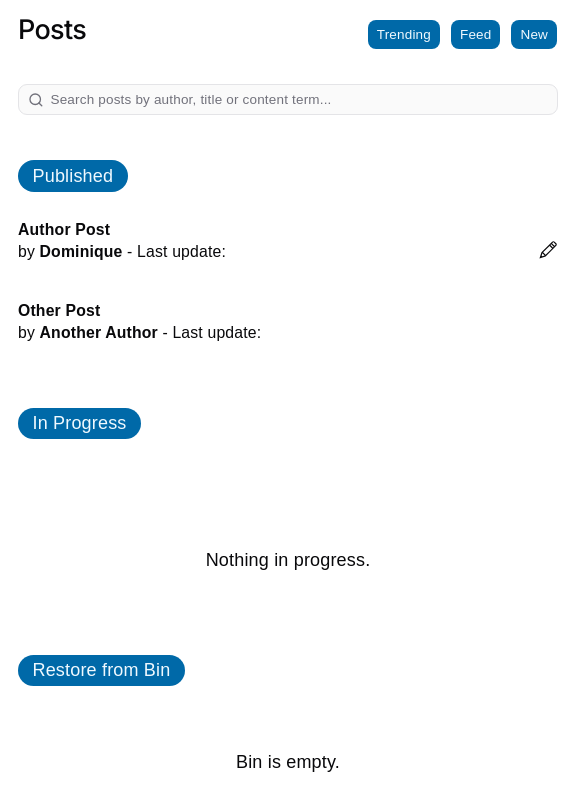
Scenario: PostList › filters published posts by author name
The width and height of the screenshot is (577, 789).
Type "Dominique" into the search field with placeholder "Search posts by author, title or content term...".
click(300, 100); type("Dominique")  # box 44,84 -> 557,116
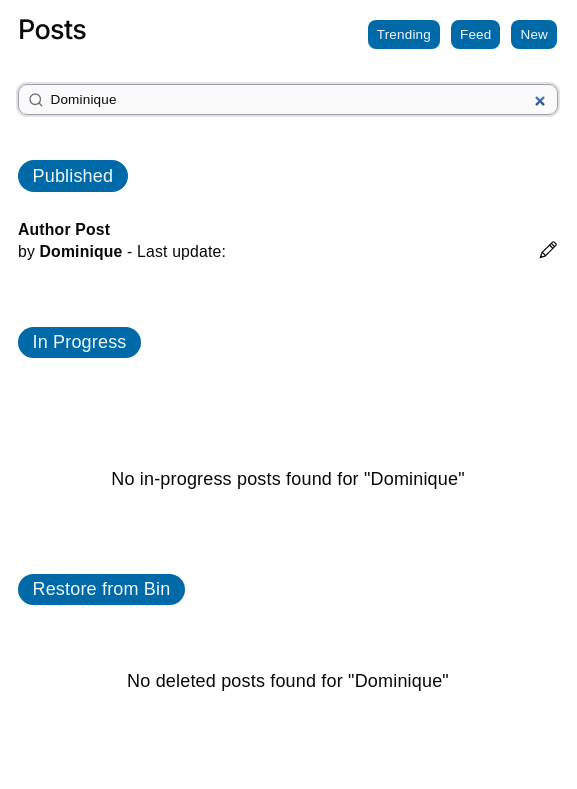
Check: the text "Author Post" is shown, box 18,221 -> 110,238
Check: the link "Other Post" is gone
